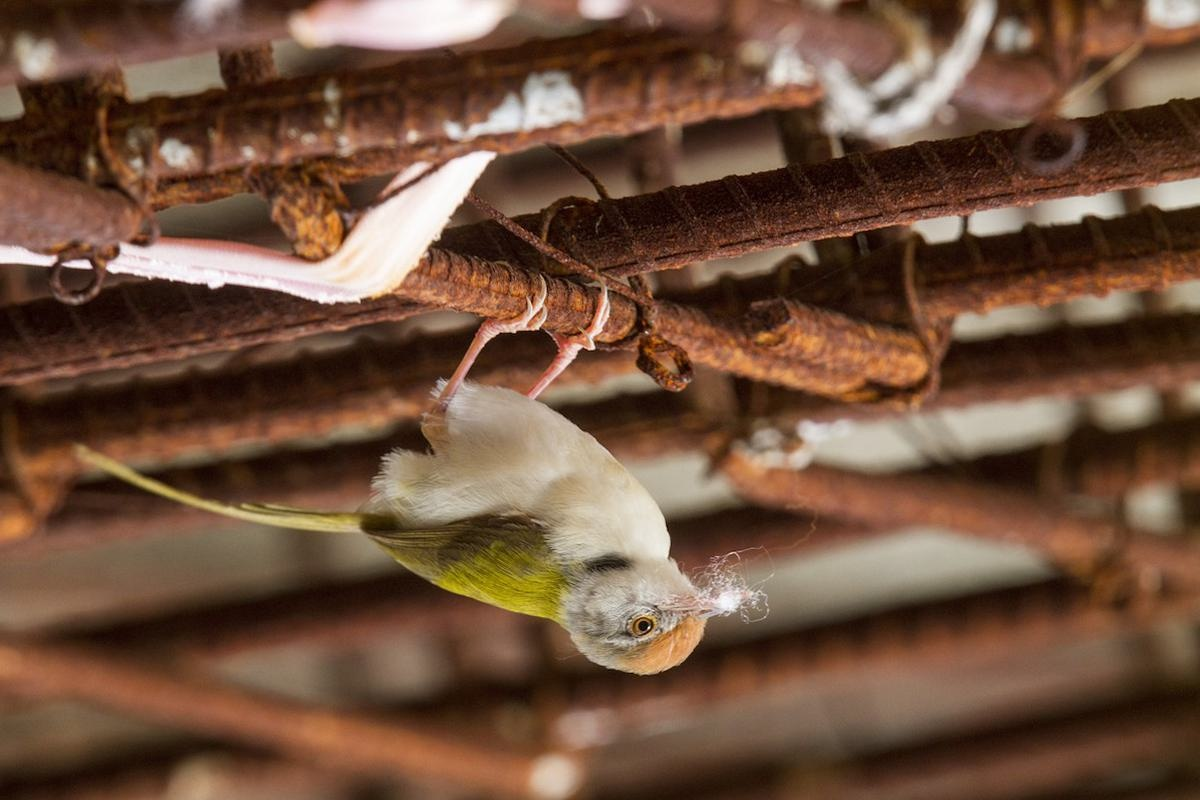tailorbird: (78, 300, 797, 706)
